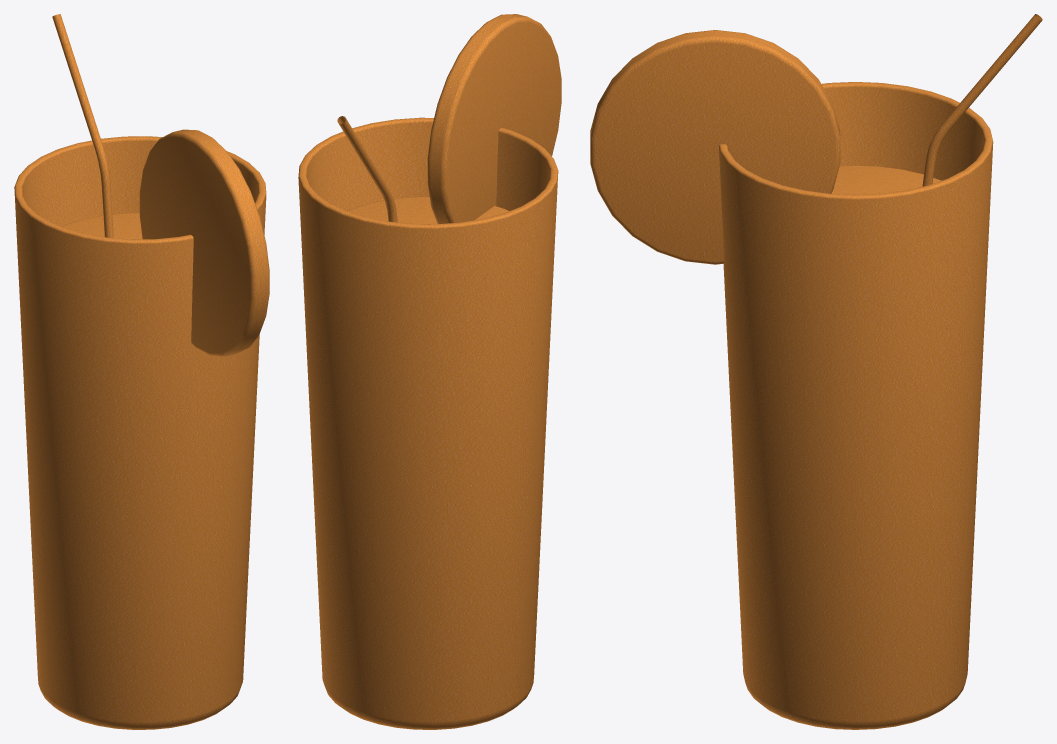
File: Orange Juice.fbx
The picture shows the model from 3 angles, left to right: view 1: azimuth 30°, elevation 25°; view 2: azimuth 150°, elevation 25°; view 3: azimuth 270°, elevation 25°; orthographic projection. The views are drawn at different scales.
Visible parts, largest first — view 1: Sweep; view 2: Sweep; view 3: Sweep.
Part boxes in pixels (x1,y1,x2,y2): Sweep: [14, 14, 269, 729]; Sweep: [298, 14, 561, 729]; Sweep: [590, 14, 1042, 729].
Size of the model in its own units: 7.29 by 19.64 by 11.95.
1 material, 1 textured.
